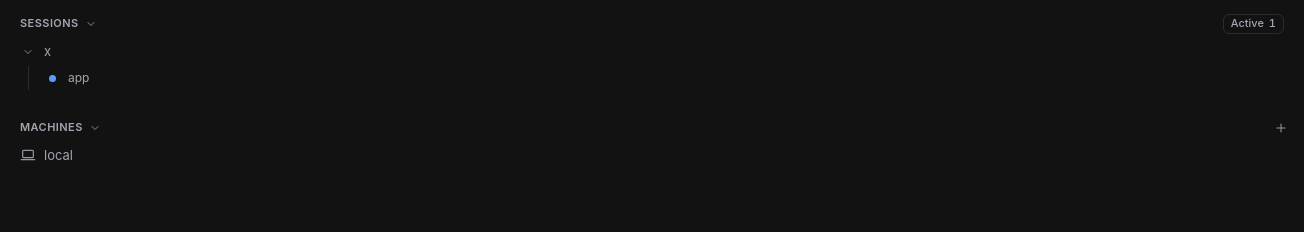
Test: Sidebar machine actions › bookmarks a project from its row's menu, unbookmarks it from Bookmarks; a Session has no Bookmark item
Step 1. Right-click the button "x" → (48, 51), box [12,37,1292,65]
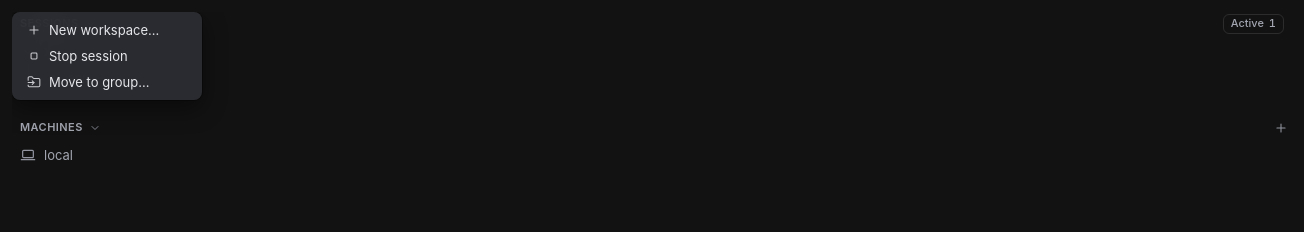
expect the menu item "Bookmark" is not shown: met
Step 2. Press Escape
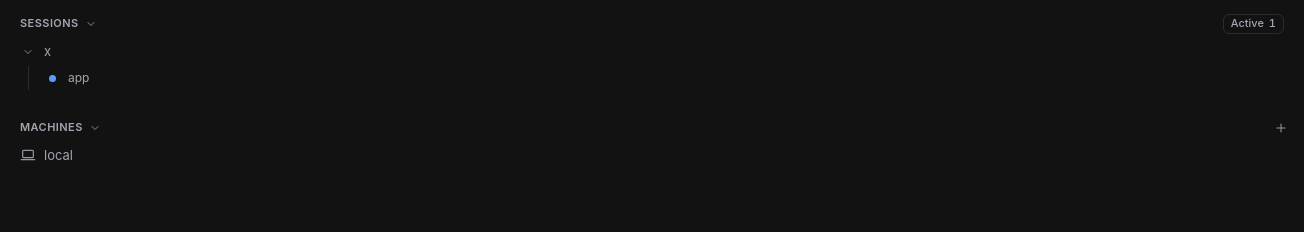
Step 3. Right-click the button "app" → (52, 78), box [36,66,1292,90]
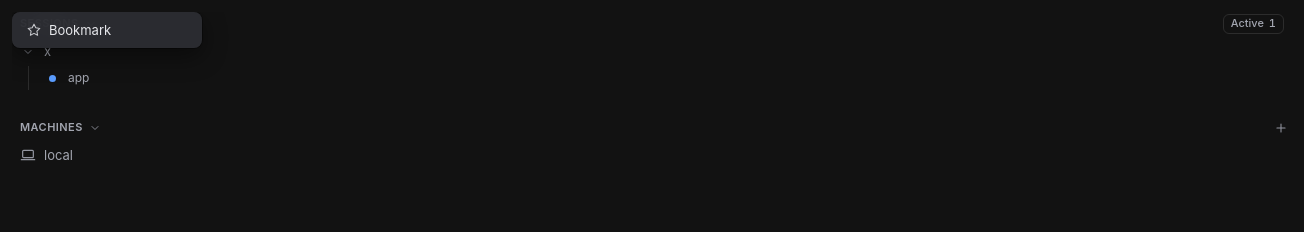
Step 4. Click the menu item "Bookmark" → (107, 30), box [17,17,197,43]
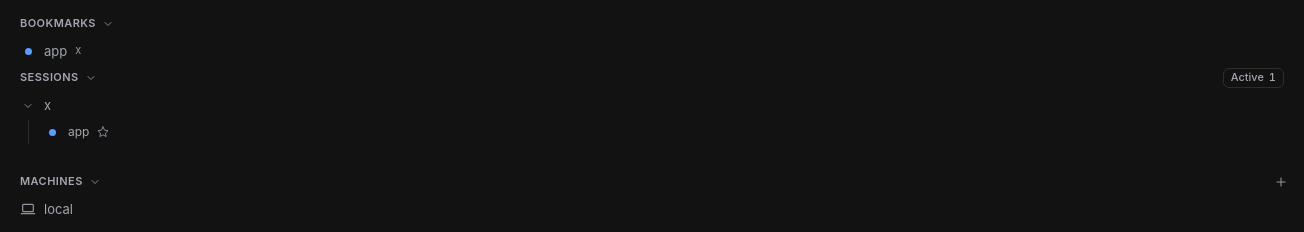
Step 5. Right-click the button "app x" → (28, 51), box [12,37,1292,65]
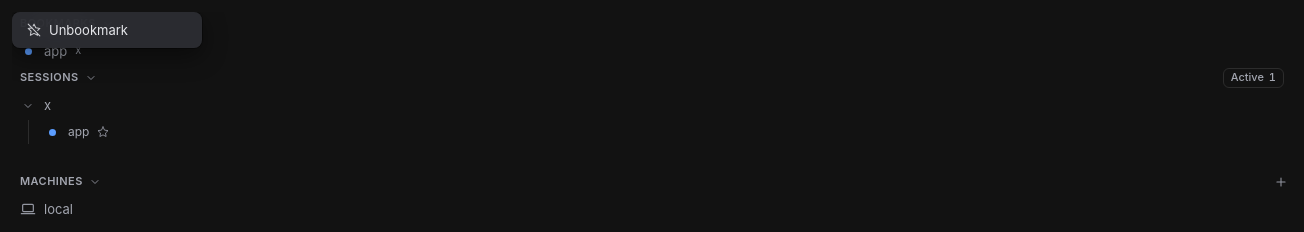
Step 6. Click the menu item "Unbookmark" → (107, 30), box [17,17,197,43]
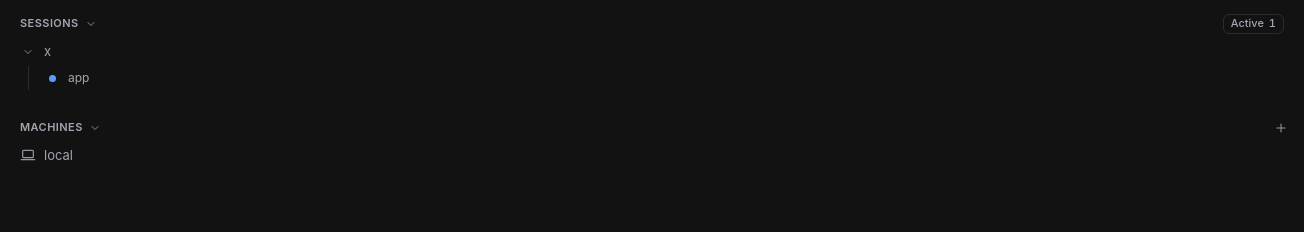
expect the button "Bookmarks" is gone: met
